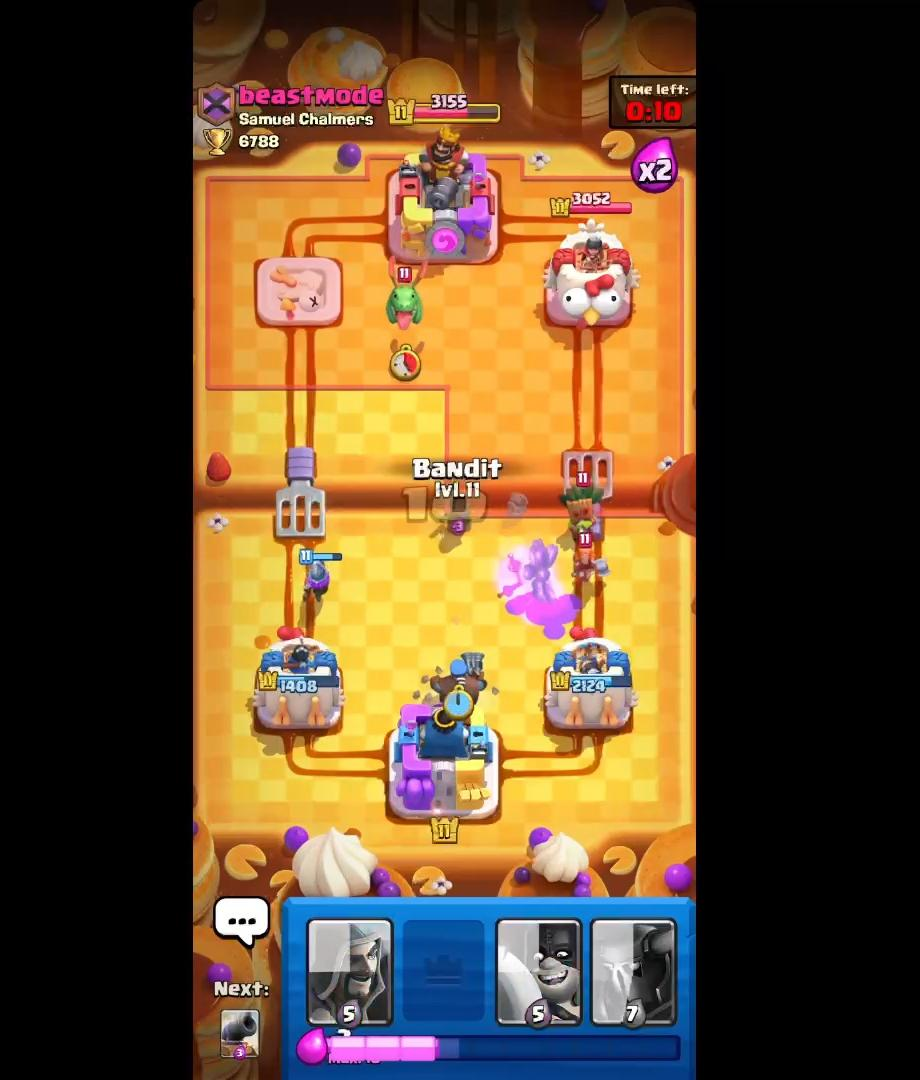Baby Dragon: (370, 261, 433, 331)
Dart Goblin: (557, 472, 615, 532)
Valkyrie: (570, 532, 611, 589)
